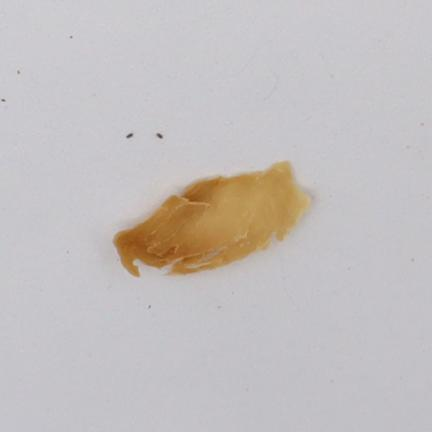parchment: (114, 162, 309, 276)
